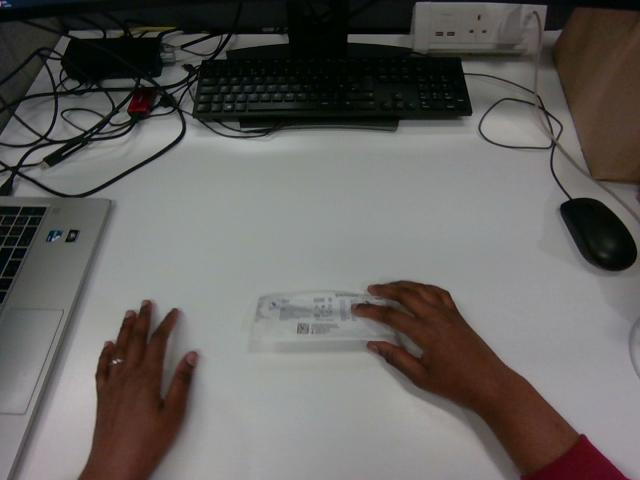syringe: (253, 292, 398, 342)
